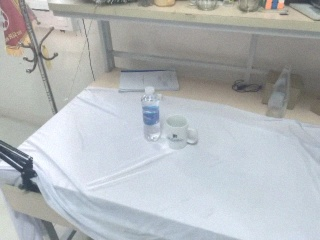bottle: (265, 65, 291, 119), (141, 87, 161, 142)
cup: (165, 115, 199, 150)
